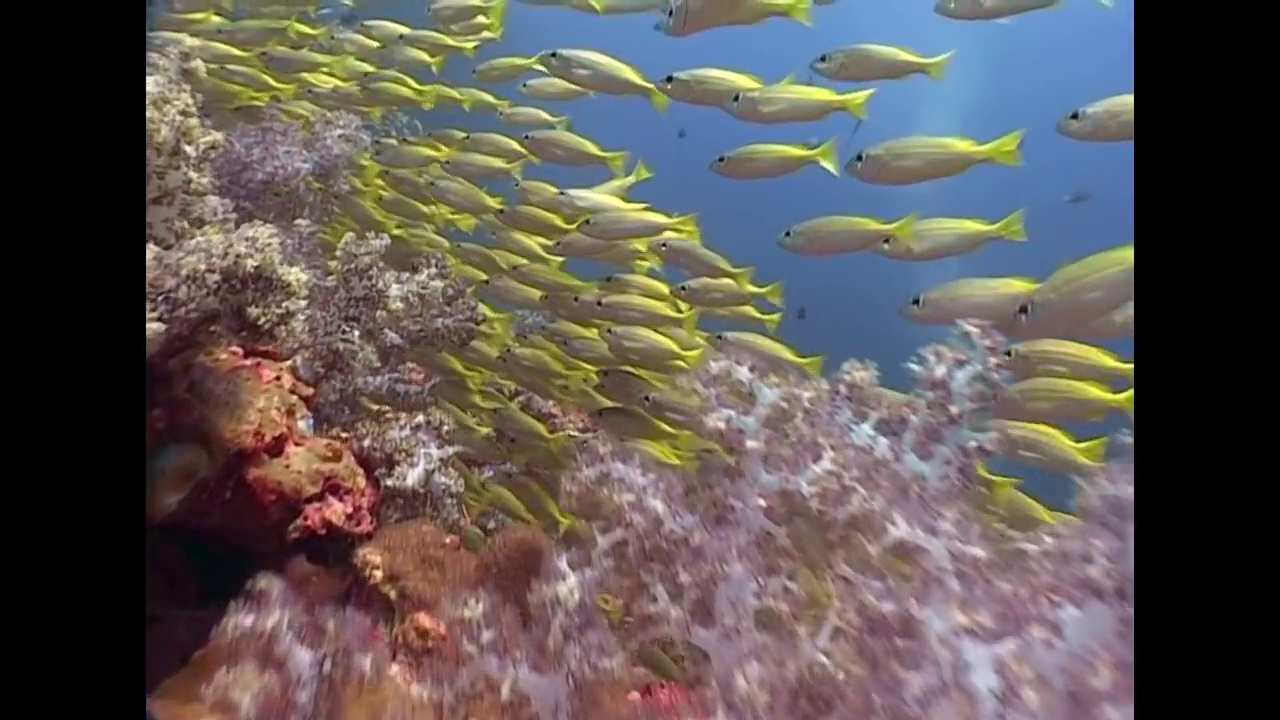big eye snapper: (1018, 248, 1133, 326), (840, 127, 1021, 176), (896, 274, 1051, 327), (724, 66, 865, 124), (538, 35, 660, 97), (871, 210, 1031, 257), (694, 136, 842, 180), (707, 323, 817, 381), (980, 379, 1131, 421), (809, 34, 950, 77), (599, 313, 698, 371), (993, 339, 1129, 380), (773, 211, 910, 251), (652, 62, 762, 111), (599, 371, 706, 419), (571, 199, 698, 235), (420, 157, 498, 215), (593, 287, 693, 330), (654, 230, 749, 271), (1043, 97, 1129, 141), (502, 253, 590, 296), (493, 195, 571, 242), (362, 127, 445, 171), (393, 13, 473, 56), (551, 225, 649, 260), (251, 38, 337, 77), (442, 238, 514, 281), (497, 341, 574, 380), (458, 124, 531, 162), (492, 97, 568, 130), (369, 184, 438, 220), (523, 123, 599, 155), (670, 281, 781, 302), (358, 52, 416, 91), (507, 175, 567, 211), (466, 47, 546, 74), (516, 74, 595, 100)
